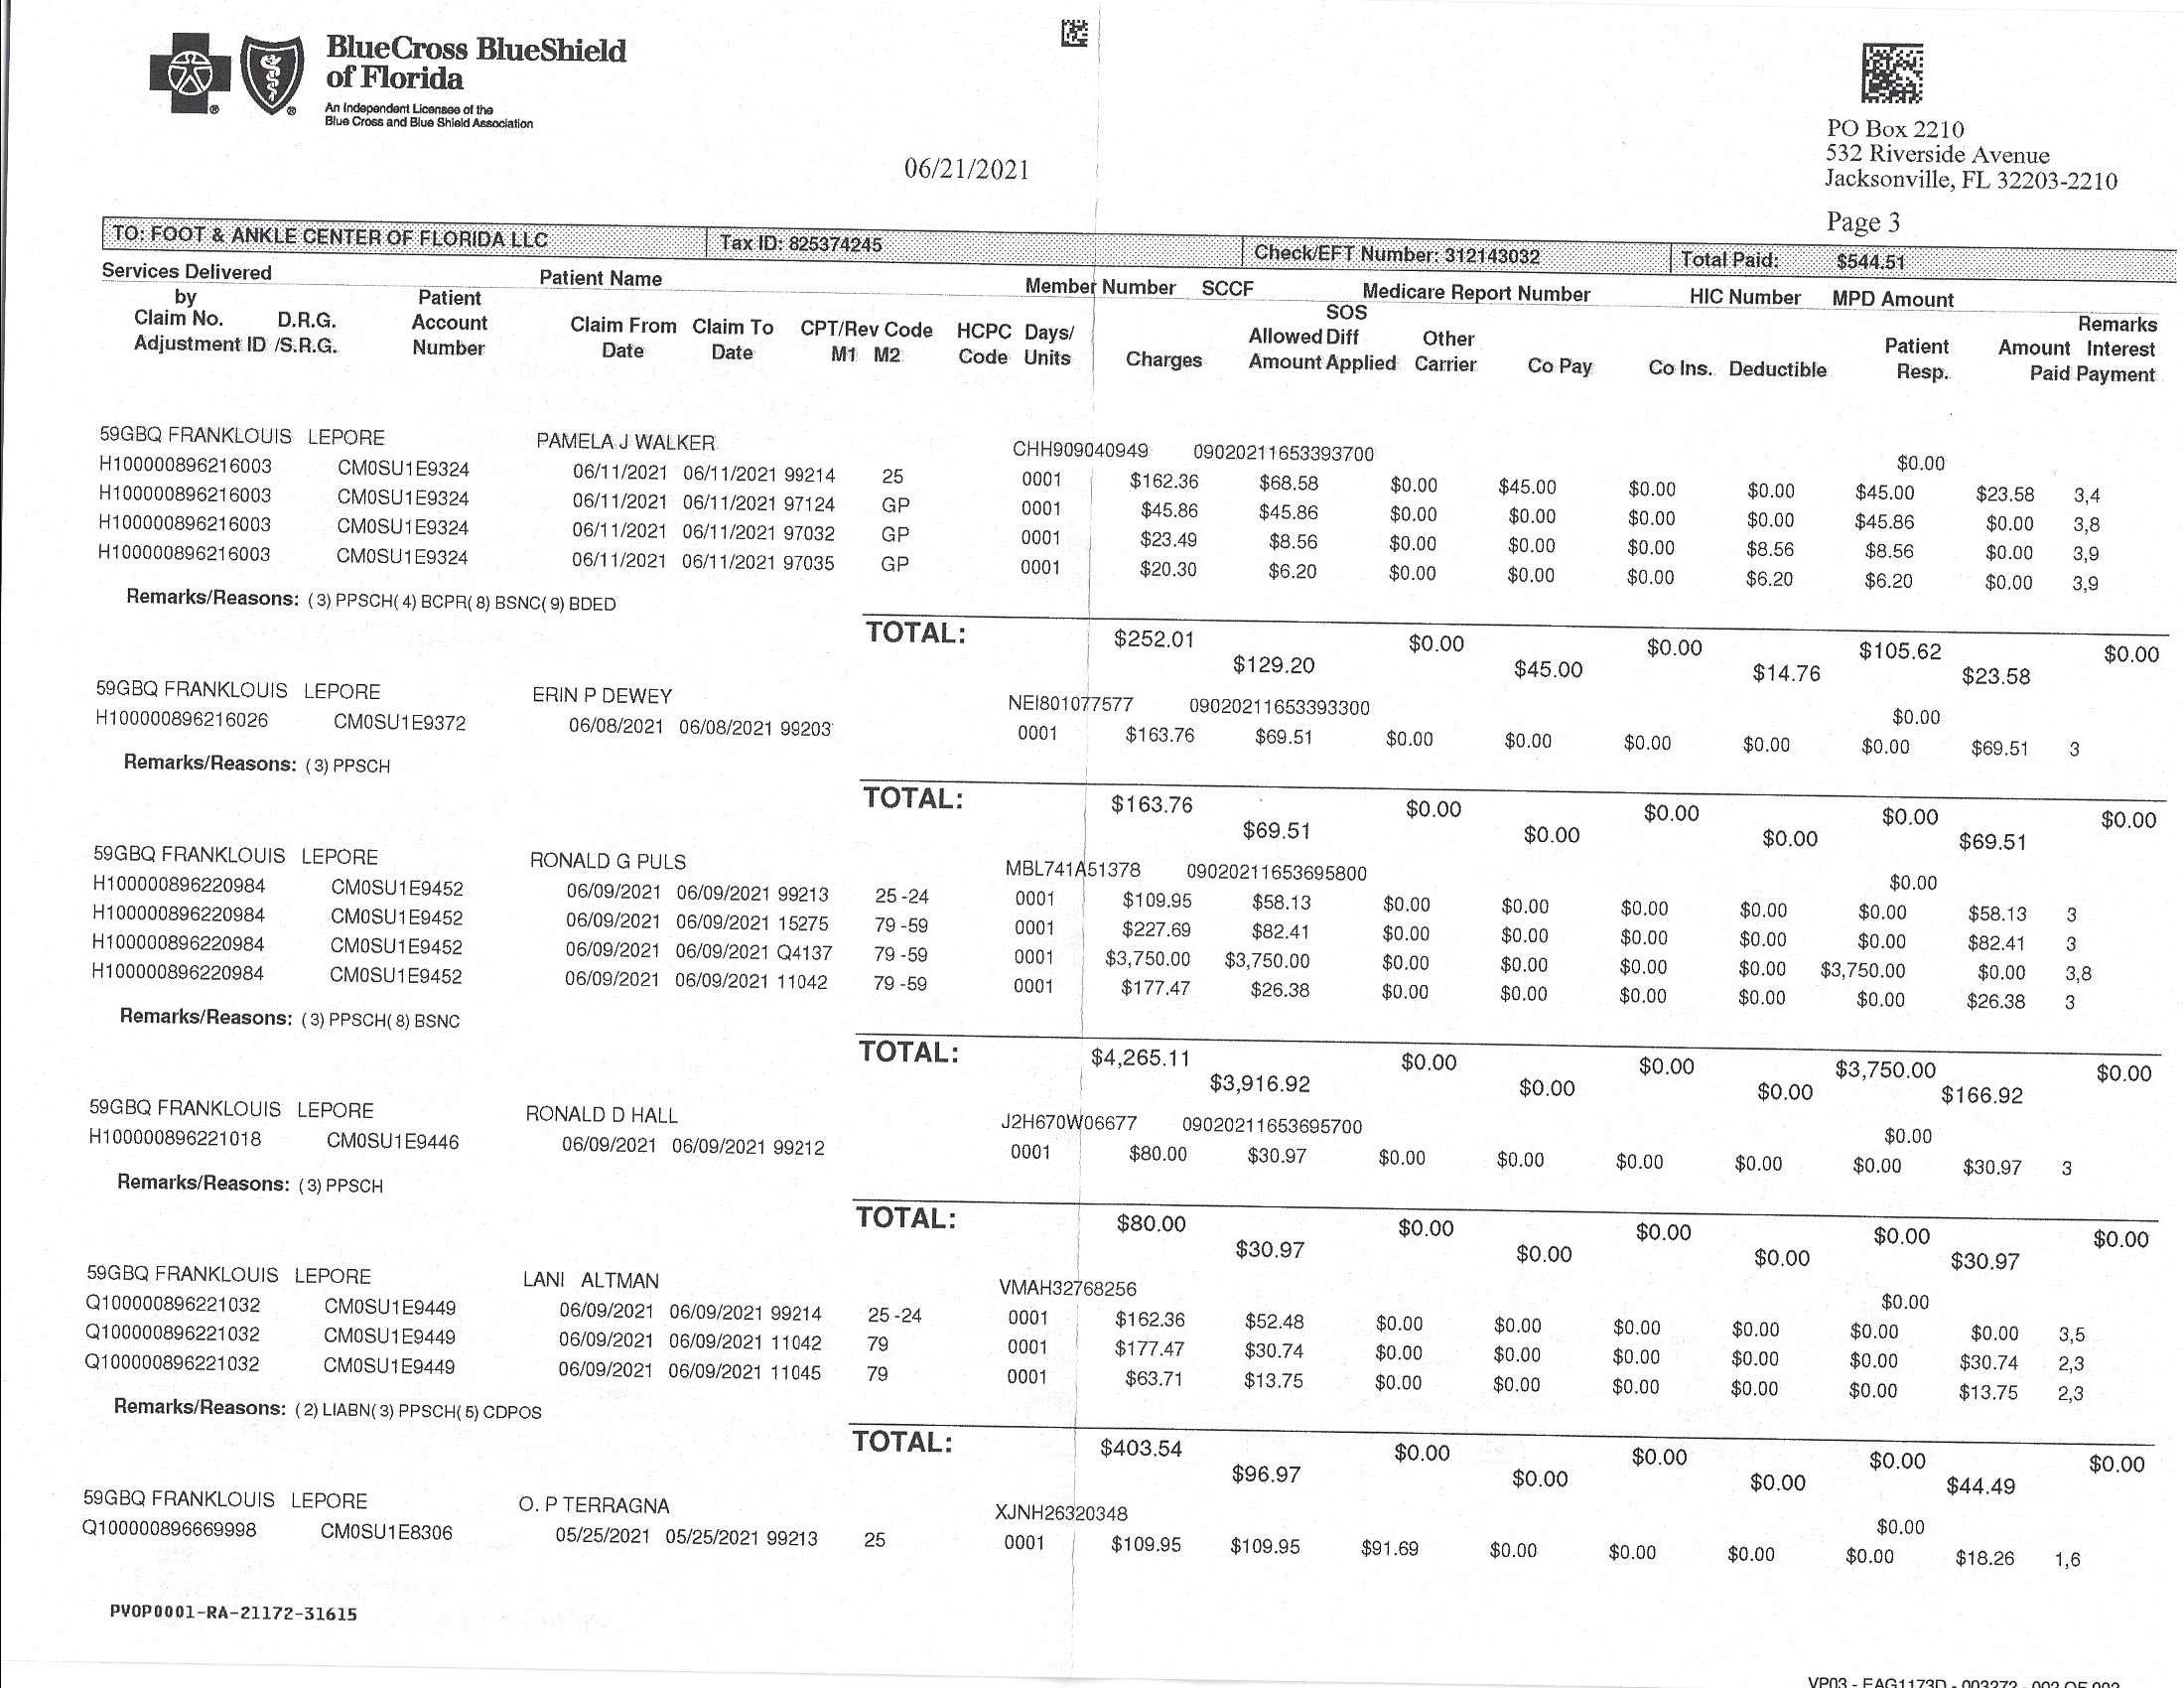table: (82, 199, 2170, 1615)
